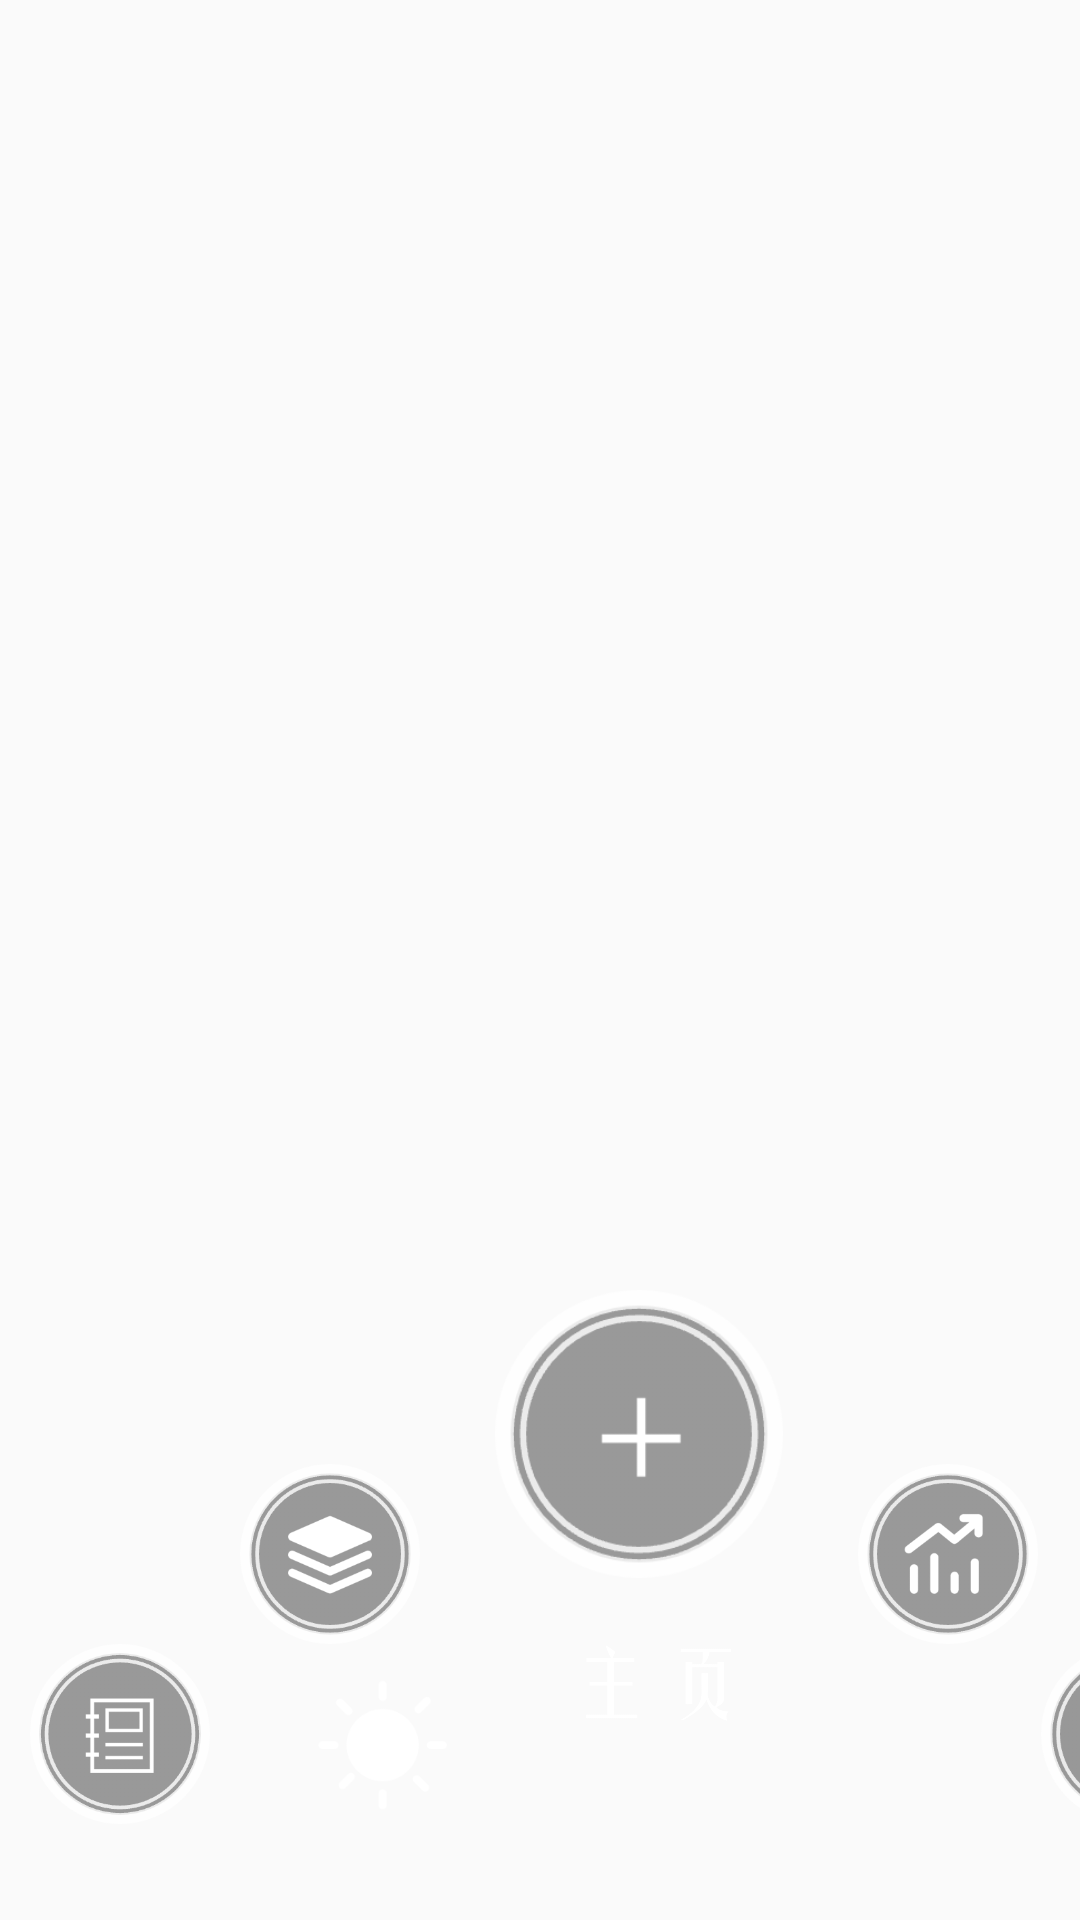

Icon click points for this 1080px×1920px phone screenshot, format point (x, y):
ADD: point (639, 1434)
ALL: point (330, 1554)
ANALYSE: point (948, 1554)
